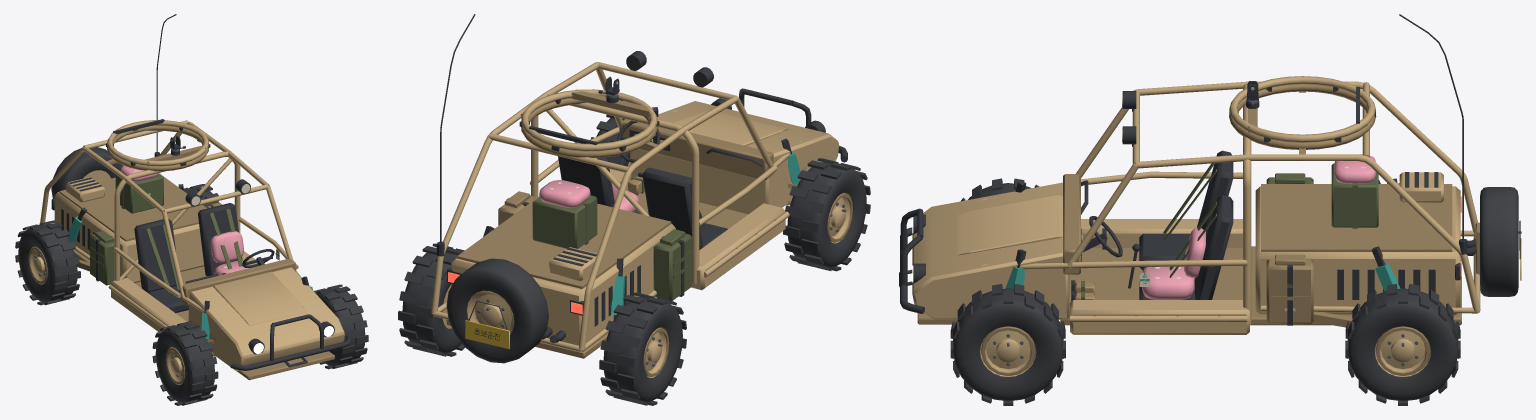
File: lsv.glb
3 renders of one model, left to right at view 1: azimuth 30°, elevation 25°; view 2: azimuth 150°, elevation 25°; view 3: azimuth 270°, elevation 25°, orthographic. The views are drawn at different scales.
Parts seen in each view (by area): view 1: body, body_thin, wheel_RR, wheel_FR, wheel_FL, turret, body_fine; view 2: body, body_thin, wheel_RR, wheel_FR, wheel_RL, turret, body_fine, wheel_FL; view 3: body, body_thin, wheel_RL, wheel_FL, turret, body_fine, wheel_FL_thin, wheel_RL_thin, wheel_FR.
Boxes of the visible parts, bbox=[...] form: body: bbox=[51, 147, 344, 380]; body_thin: bbox=[40, 14, 351, 370]; wheel_RR: bbox=[15, 220, 80, 305]; wheel_FR: bbox=[152, 321, 218, 405]; wheel_FL: bbox=[314, 284, 368, 369]; turret: bbox=[106, 119, 210, 166]; body_fine: bbox=[61, 170, 279, 341]; body: bbox=[437, 98, 838, 363]; body_thin: bbox=[431, 14, 847, 352]; wheel_RR: bbox=[599, 292, 686, 405]; wheel_FR: bbox=[783, 158, 870, 271]; wheel_RL: bbox=[398, 243, 464, 356]; turret: bbox=[519, 76, 659, 151]; body_fine: bbox=[474, 134, 805, 340]; wheel_FL: bbox=[590, 114, 630, 166]; body: bbox=[912, 150, 1521, 334]; body_thin: bbox=[899, 14, 1521, 325]; wheel_RL: bbox=[1345, 284, 1460, 405]; wheel_FL: bbox=[950, 284, 1065, 405]; turret: bbox=[1229, 76, 1375, 142]; body_fine: bbox=[987, 93, 1438, 316]; wheel_FL_thin: bbox=[981, 326, 1035, 376]; wheel_RL_thin: bbox=[1375, 326, 1430, 376]; wheel_FR: bbox=[961, 178, 1039, 201].
Size of the model in its own units: 2.14 by 2.92 by 4.5.
